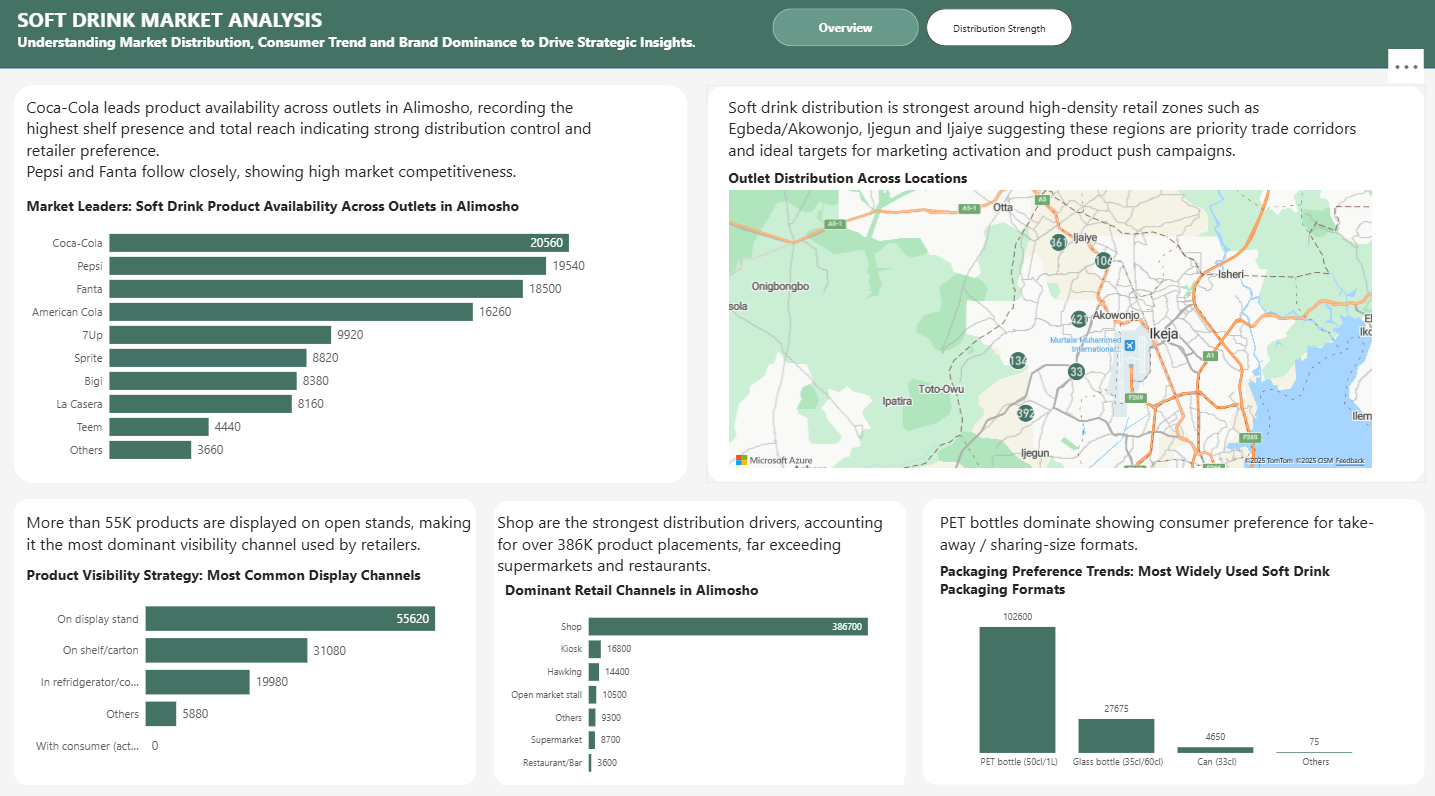

What the dashboard file says about the page in this screenshot:
{"tool":"powerbi","page":{"name":"Overview","canvas":[1920,1080],"ordinal":0},"visuals":[{"type":"shape","box":[0,0,1920.4,105.2],"z":0},{"type":"shape","box":[944.8,127.1,953.6,528.3],"z":1000},{"type":"shape","box":[1232,677.4,666.4,379.3],"z":2000},{"type":"shape","box":[26.3,127.1,894.4,528.3],"z":3000},{"type":"shape","box":[26.3,677.4,613.8,380],"z":4000},{"type":"textbox","box":[26.3,15.3,942.6,94.3],"z":6000},{"type":"clusteredBarChart","title":"Market Leaders: Soft Drink Product Availability Across Outlets in Alimosho","fields":{"Y":["Measures table.Brand availability"],"Category":["Product Visibility Data.Brand"]},"box":[37.8,274.6,780.2,366.2],"z":11000},{"type":"clusteredBarChart","title":"Product Visibility Strategy: Most Common Display Channels","fields":{"Y":["Measures table.Product_display_availability"],"Category":["Product Visibility Data.Product_display"]},"box":[37.8,764.2,601,278.6],"z":12000},{"type":"columnChart","title":"Packaging Preference Trends: Most Widely Used Soft Drink Packaging Formats","fields":{"Category":["Product Visibility Data.Package_display"],"Y":["Measures table.Package_av"]},"box":[1249.6,758.5,613.8,285],"z":13000},{"type":"azureMap","title":"Outlet Distribution Across Locations","fields":{"Y":["Product Visibility Data.Latitude"],"X":["Product Visibility Data.Longitude"],"Size":["Measures table.Brand availability"]},"box":[969.2,236.8,863.8,404],"z":14000},{"type":"shape","box":[662,679.6,548,377.1],"z":15000},{"type":"clusteredBarChart","title":"Dominant Retail Channels in Alimosho","fields":{"Category":["Product Visibility Data.Type of Outlet"],"Y":["Product Visibility Data.Type of Outlet"]},"box":[671.7,784.8,534.8,271.7],"z":17000},{"type":"textbox","box":[969.2,127.4,863.8,171.2],"z":19000},{"type":"textbox","box":[37.8,135.3,792.1,147.3],"z":20000},{"type":"textbox","box":[37.3,686.2,602.9,116.2],"z":21000},{"type":"textbox","box":[1249.6,686.2,613.8,68],"z":22000},{"type":"pageNavigator","box":[1032.5,26.3,399,50.4],"z":24000},{"type":"textbox","box":[673.9,689.1,558.7,95.7],"z":25000}]}

Visuals, with their boxes in screenshot pixels (x1, y1, x2, y2), scaled from the page's 1920x1080 canvas onto the 1435x796 screenshot:
shape: box=[0, 0, 1434, 78]
shape: box=[706, 94, 1419, 483]
shape: box=[921, 499, 1419, 779]
shape: box=[20, 94, 688, 483]
shape: box=[20, 499, 478, 779]
textbox: box=[20, 11, 724, 81]
"Market Leaders: Soft Drink Product Availability Across Outlets in Alimosho" clusteredBarChart: box=[28, 202, 611, 472]
"Product Visibility Strategy: Most Common Display Channels" clusteredBarChart: box=[28, 563, 477, 769]
"Packaging Preference Trends: Most Widely Used Soft Drink Packaging Formats" columnChart: box=[934, 559, 1393, 769]
"Outlet Distribution Across Locations" azureMap: box=[724, 175, 1370, 472]
shape: box=[495, 501, 904, 779]
"Dominant Retail Channels in Alimosho" clusteredBarChart: box=[502, 578, 902, 779]
textbox: box=[724, 94, 1370, 220]
textbox: box=[28, 100, 620, 208]
textbox: box=[28, 506, 478, 591]
textbox: box=[934, 506, 1393, 556]
pageNavigator: box=[772, 19, 1070, 57]
textbox: box=[504, 508, 921, 578]
